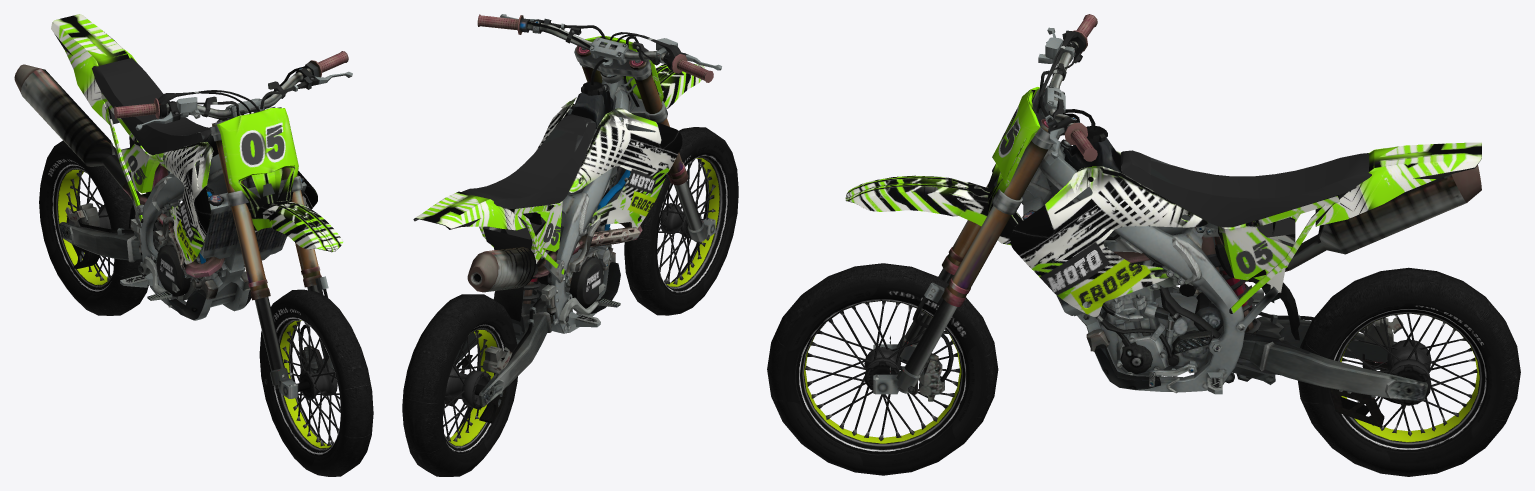
File: TrialDirtBike.fbx
3 views of the same model, side by side, from view 1: azimuth 30°, elevation 25°; view 2: azimuth 150°, elevation 25°; view 3: azimuth 270°, elevation 25° (orthographic). The views are drawn at different scales.
Parts seen in each view (by area): view 1: Body, Handles, FWheel, RWheel, RearSuspension, FrontSuspension; view 2: Body, RWheel, FWheel, Handles, RearSuspension, FrontSuspension; view 3: Body, RWheel, FWheel, Handles, RearSuspension, FrontSuspension.
Boxes of the visible parts, x1,y1,x2,y2 form: Body: (14,14,343,320); Handles: (114,51,352,300); FWheel: (259,289,373,476); RWheel: (39,140,153,315); RearSuspension: (59,203,161,274); FrontSuspension: (254,276,337,398); Body: (413,59,704,333); RWheel: (402,294,517,476); FWheel: (624,127,738,315); Handles: (477,14,721,185); RearSuspension: (445,283,551,423); FrontSuspension: (660,181,715,242); Body: (845,109,1481,394); RWheel: (1298,267,1520,476); FWheel: (767,263,998,475); Handles: (942,14,1097,306); RearSuspension: (1208,312,1427,427); FrontSuspension: (873,268,957,401).
Size of the model in its own units: 99.69 by 138 by 235.
Materials: 4 (4 with a texture image).
